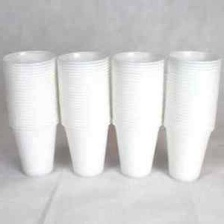glass: (0, 44, 58, 184), (162, 50, 222, 185), (55, 48, 115, 181), (109, 49, 168, 184)
